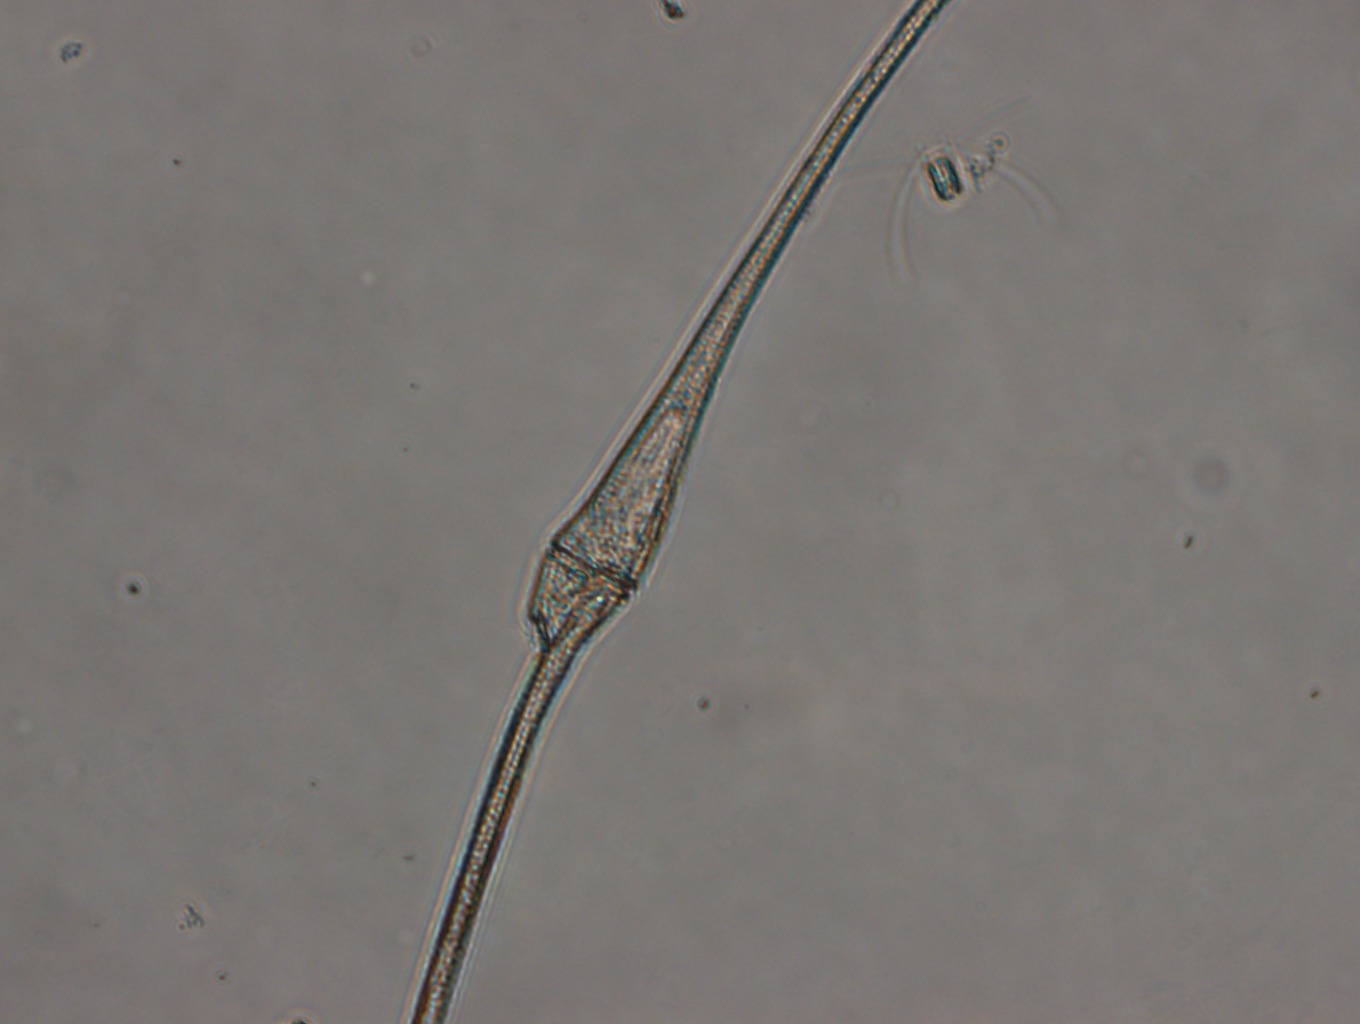ceratium fusus: (404, 1, 944, 1024)
